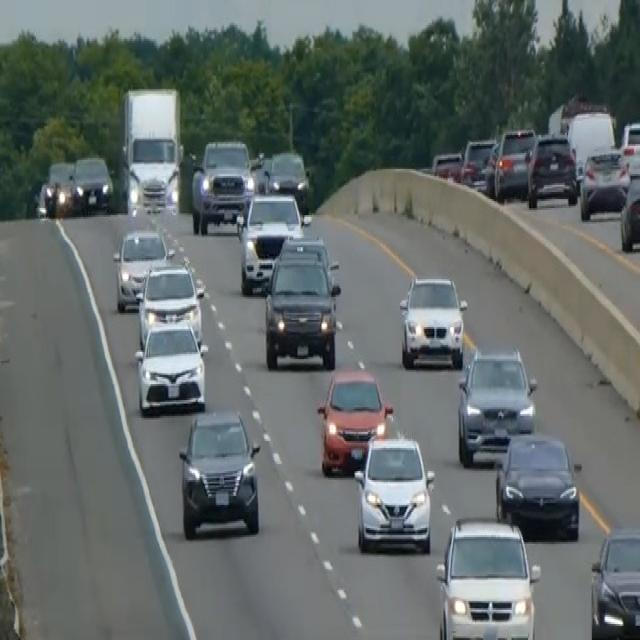car: (435, 514, 540, 638), (178, 407, 261, 539), (352, 430, 435, 553), (456, 345, 537, 466), (494, 430, 581, 539), (316, 364, 393, 474), (235, 190, 306, 295), (134, 316, 206, 414), (398, 272, 467, 370), (190, 137, 254, 233), (135, 262, 204, 348), (589, 524, 639, 638), (112, 226, 172, 311), (525, 132, 578, 208), (579, 146, 630, 220), (493, 124, 536, 201), (265, 148, 310, 215), (71, 153, 113, 211), (40, 158, 75, 217), (461, 135, 496, 190), (619, 170, 639, 252), (618, 117, 639, 178), (481, 138, 501, 196), (431, 149, 463, 183)
jeep: (262, 233, 341, 371)
lorry: (118, 84, 184, 215), (566, 107, 615, 183)
